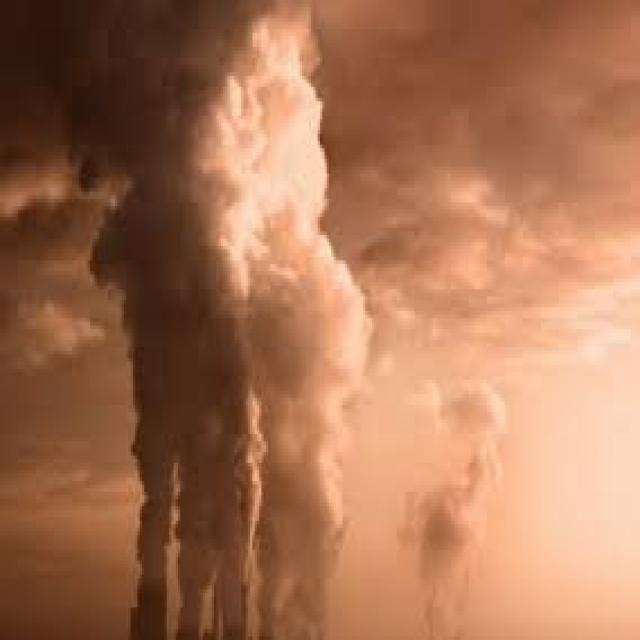Smoke: (64, 0, 504, 640)
